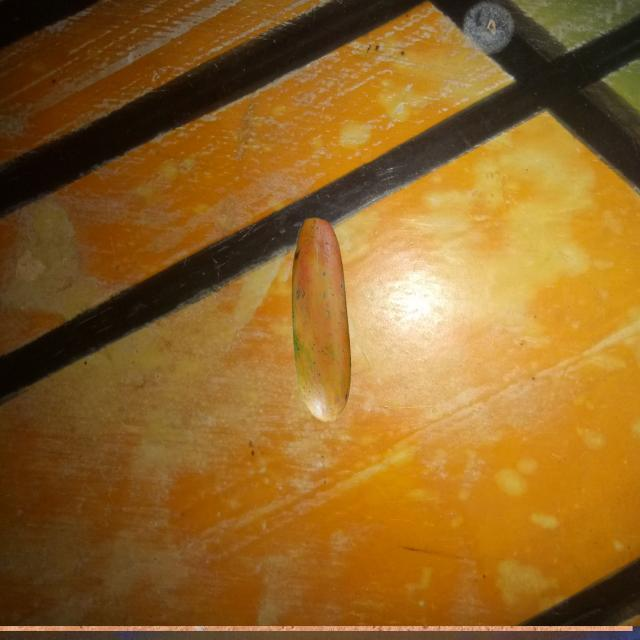Pepaya rippen: (276, 207, 376, 436)
